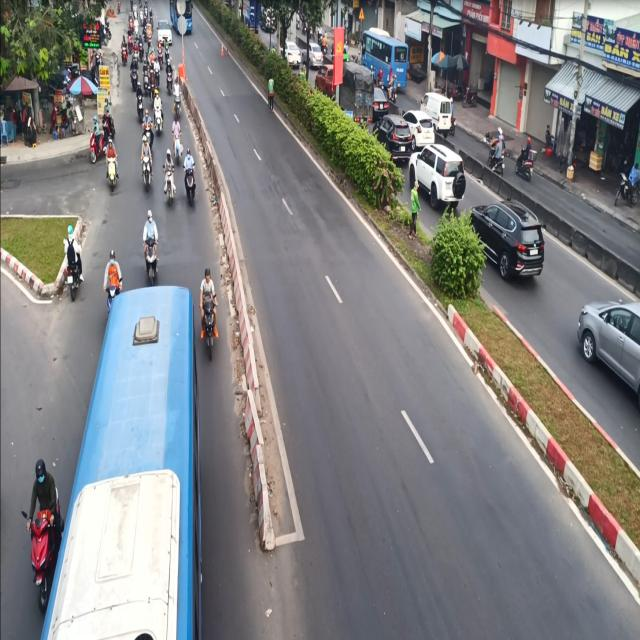motor: (28, 448, 61, 612), (198, 258, 224, 366), (138, 200, 164, 285), (64, 227, 85, 301), (184, 146, 198, 203), (165, 150, 176, 218)
